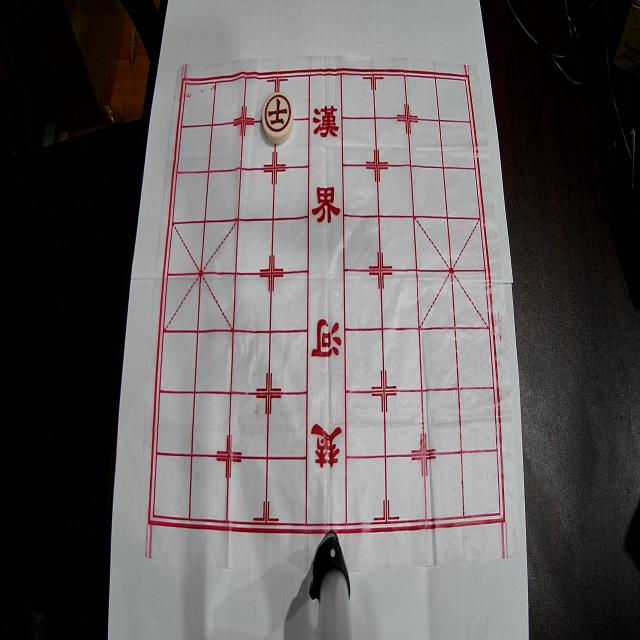red-guard: (262, 92, 294, 144)
